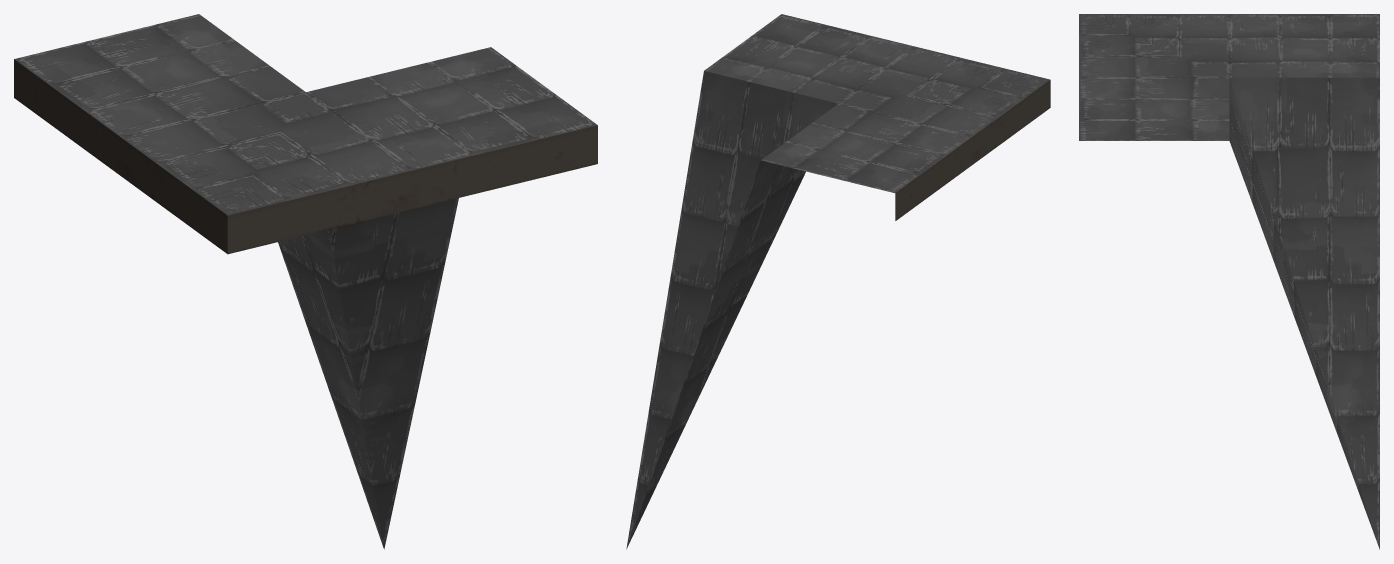
Rendered from Roof_Slate_InnerCorner.gltf.
The picture shows the model from 3 angles, left to right: view 1: azimuth 30°, elevation 25°; view 2: azimuth 150°, elevation 25°; view 3: azimuth 270°, elevation 25°; orthographic projection. The views are drawn at different scales.
Parts seen in each view (by area): view 1: Roof_Slate_InnerCorner; view 2: Roof_Slate_InnerCorner; view 3: Roof_Slate_InnerCorner.
Boxes of the visible parts, x1,y1,x2,y2 form: Roof_Slate_InnerCorner: [14, 14, 597, 549]; Roof_Slate_InnerCorner: [626, 14, 1050, 549]; Roof_Slate_InnerCorner: [1079, 14, 1379, 549].
Size of the model in its own units: 2 by 3 by 2.
2 materials, 2 textured.
